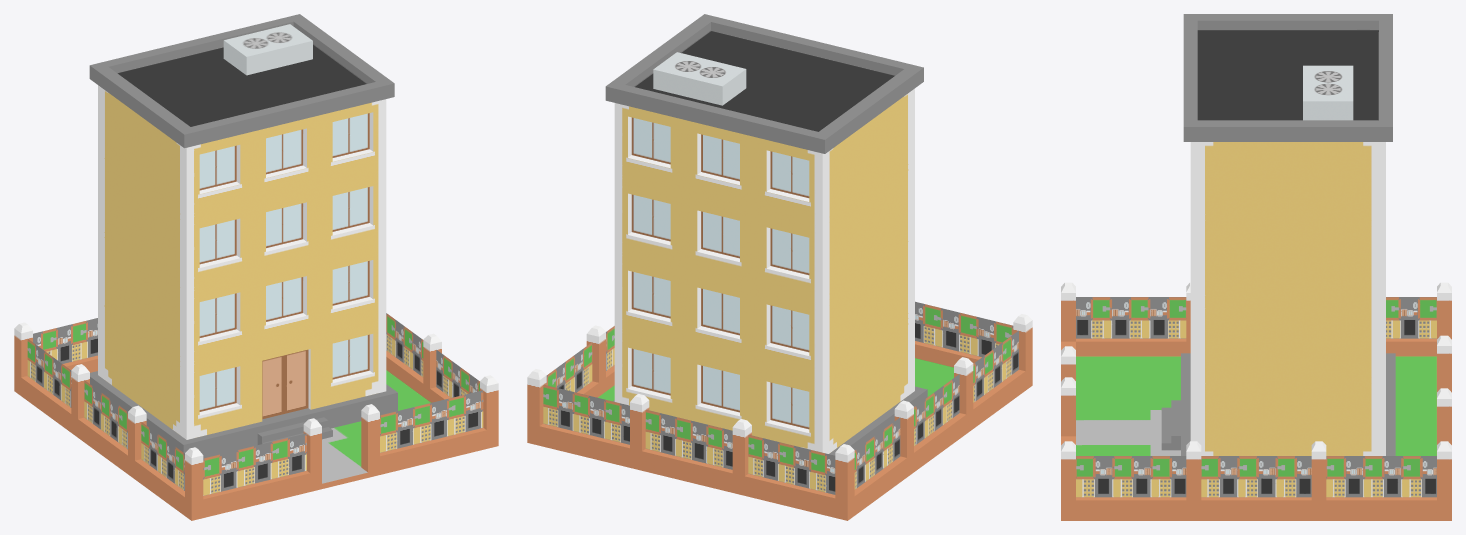
File: Building1.glb
3 views of the same model, side by side, from view 1: azimuth 30°, elevation 25°; view 2: azimuth 150°, elevation 25°; view 3: azimuth 270°, elevation 25° (orthographic). The views are drawn at different scales.
Visible parts, largest first — view 1: Box053, Plane001, Object001; view 2: Box053, Plane001, Object001; view 3: Box053, Plane001, Object001.
Boxes of the visible parts, left/top/right/bottom form: Box053: left=14, top=14, right=498, bottom=520; Plane001: left=27, top=313, right=483, bottom=495; Object001: left=14, top=322, right=498, bottom=501; Box053: left=527, top=14, right=1032, bottom=520; Plane001: left=543, top=301, right=1018, bottom=494; Object001: left=527, top=314, right=1032, bottom=501; Box053: left=1061, top=14, right=1451, bottom=520; Plane001: left=1076, top=297, right=1436, bottom=497; Object001: left=1061, top=282, right=1451, bottom=500.
Bounding box in the file's own units: 6 × 6.42 × 6.
1 material, 1 textured.
